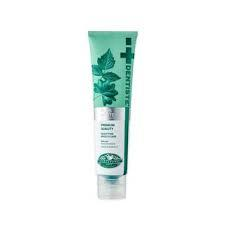toothpaste: (89, 28, 145, 205)
